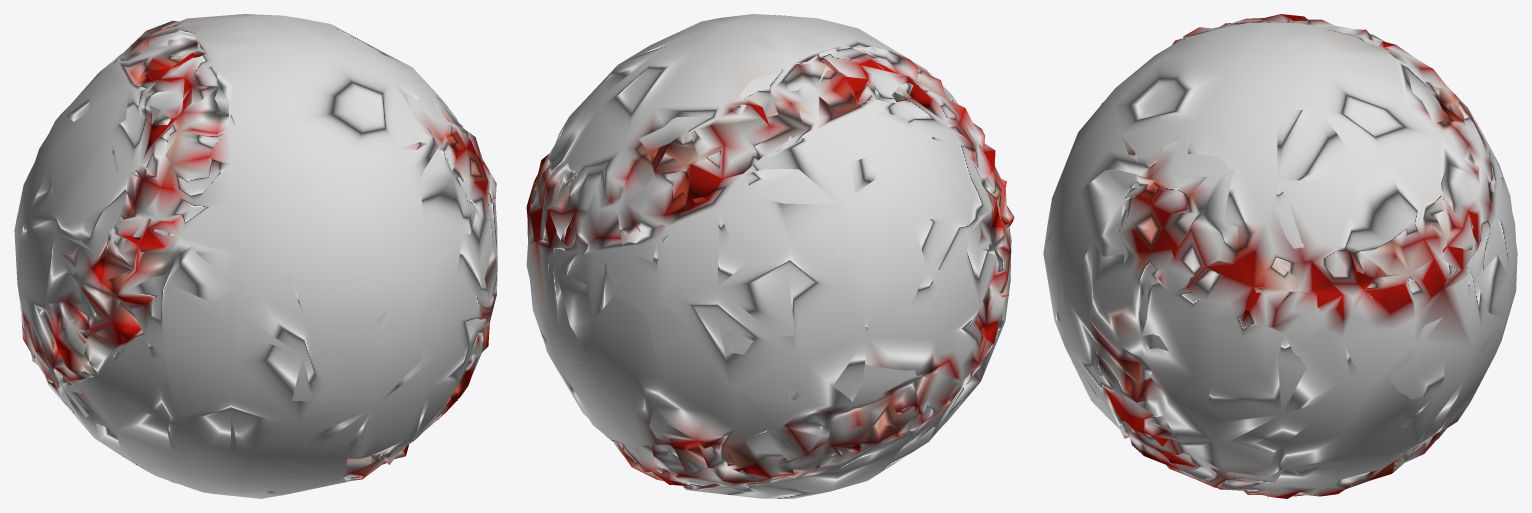
Rendered from gen3d-baseball-lod0.glb.
The picture shows the model from 3 angles, left to right: view 1: azimuth 30°, elevation 25°; view 2: azimuth 150°, elevation 25°; view 3: azimuth 270°, elevation 25°; orthographic projection. The views are drawn at different scales.
Parts seen in each view (by area): view 1: part_0; view 2: part_0; view 3: part_0.
Part boxes in pixels (left/top/right/bottom): part_0: left=14, top=14, right=497, bottom=498; part_0: left=526, top=14, right=1014, bottom=498; part_0: left=1043, top=14, right=1517, bottom=498.
Bounding box in the file's own units: 0.9994 × 0.9964 × 0.9993.
